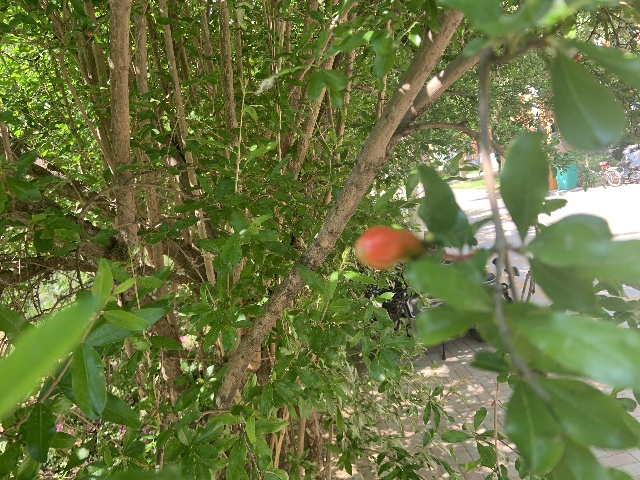bud: (354, 226, 423, 269), (572, 54, 581, 59)
